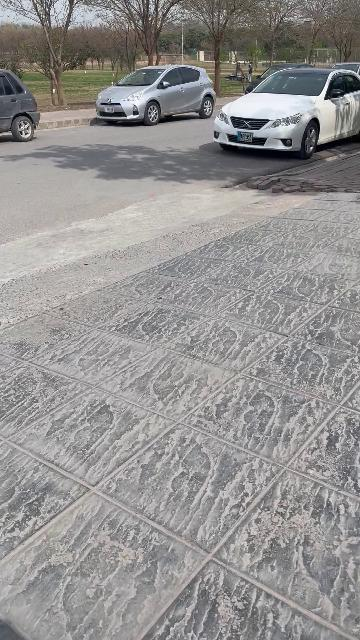plate: (237, 132, 252, 143)
